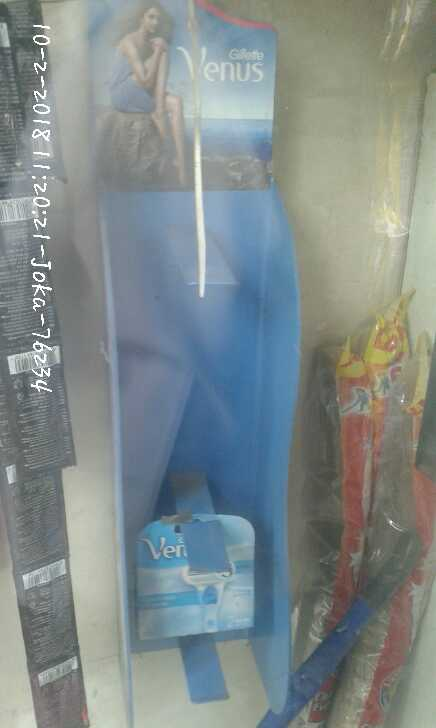venus: (129, 518, 266, 634)
